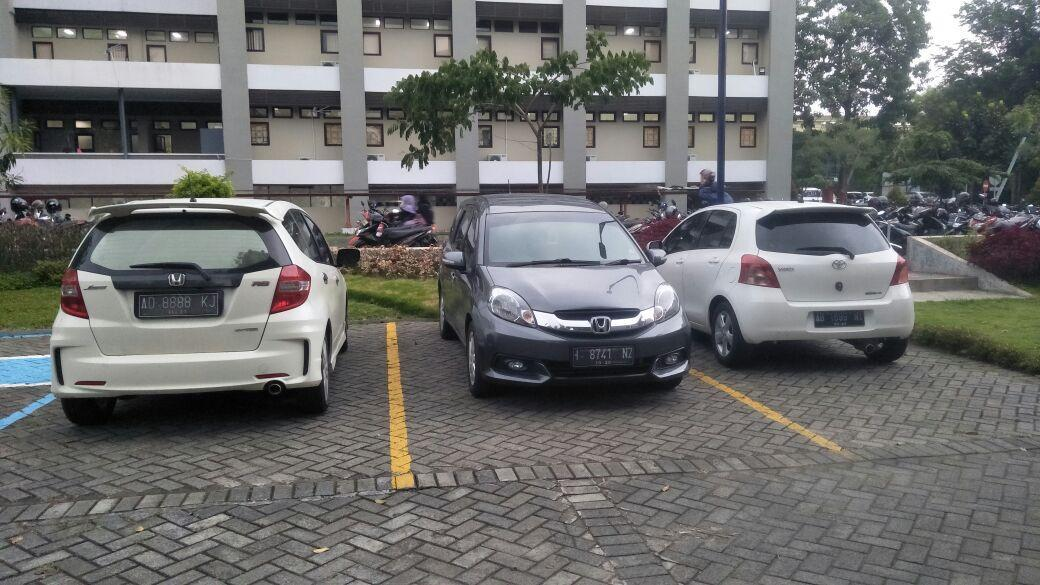clone-license-plate: (136, 292, 218, 316), (572, 343, 633, 366), (813, 309, 864, 327)
